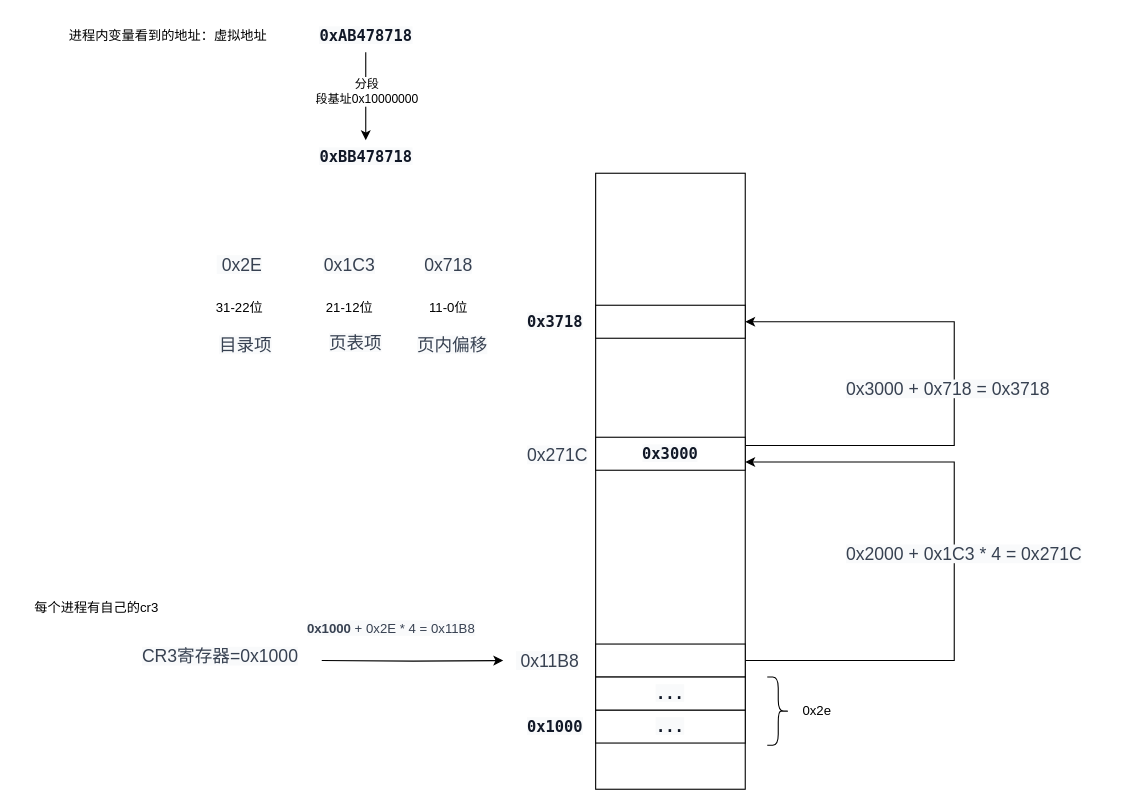
The diagram is 1148 pixels wide and 809 high, and some of its shapes have lost their labels. Here are the shapes that lost their labels. From the top down, the centre of each, then its label:
At pixel 670 321: "实际保存的数据".
At pixel 670 660: "0x2000".
